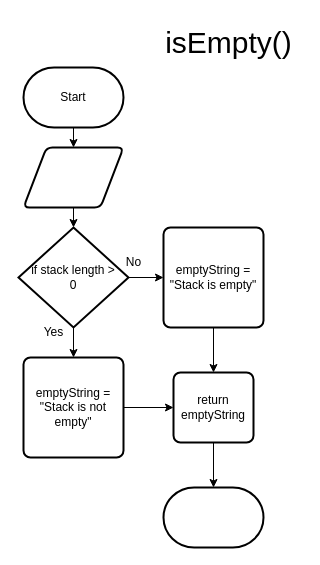
This 320x565 diagram has some shape labels left out. Here are the shapes that lost their labels. From the top down, the centre of each, then its label:
At [73,177]: "get length of stack".
At [213,517]: "Stop".
